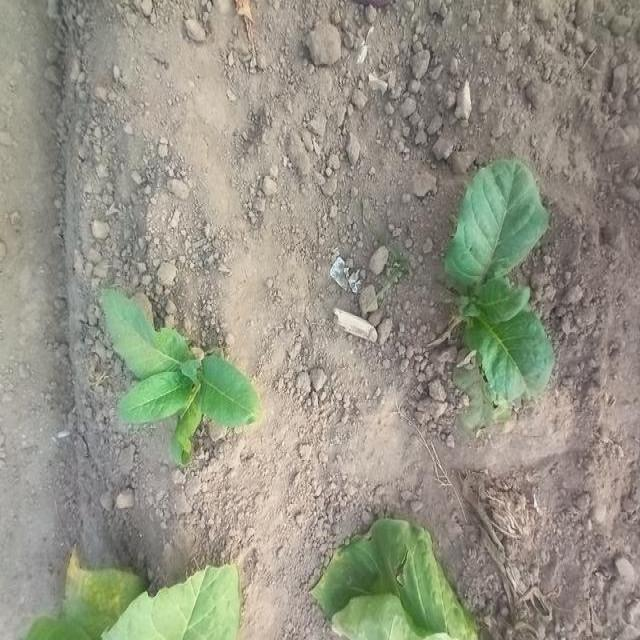crop: (444, 156, 555, 408), (99, 286, 257, 463), (310, 517, 476, 640), (30, 544, 241, 640)
